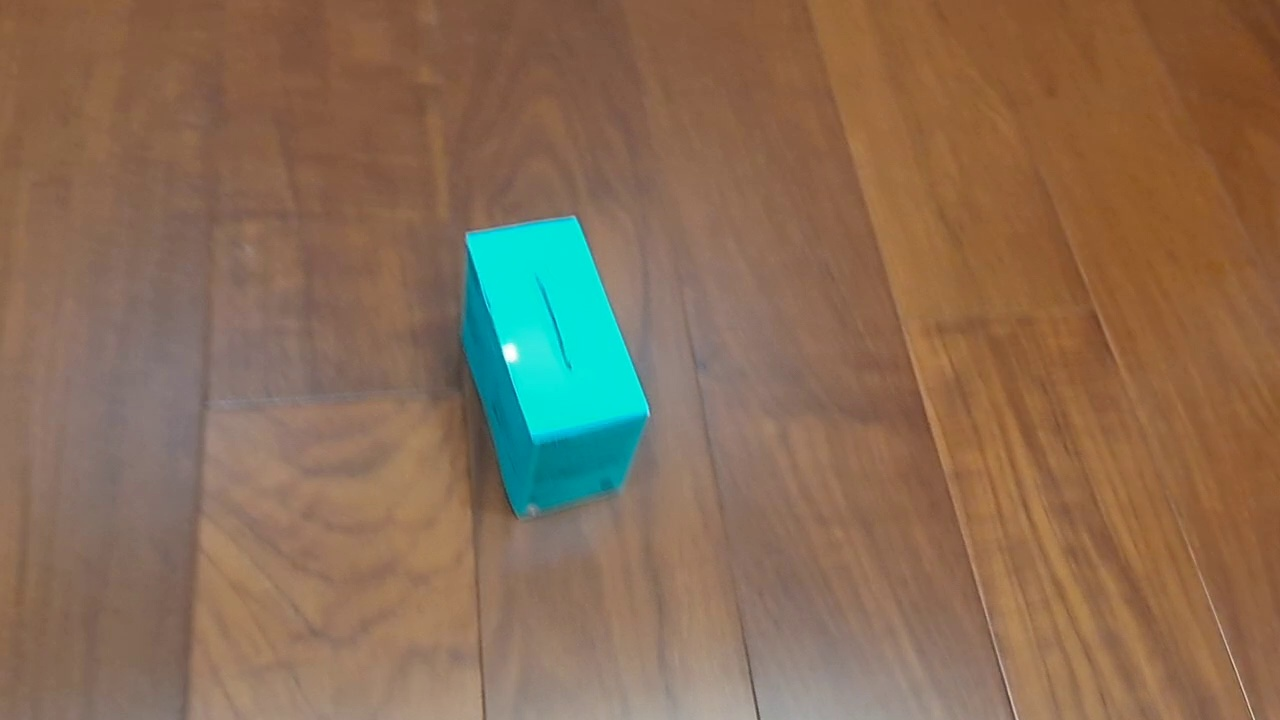webcam: (459, 213, 651, 521)
